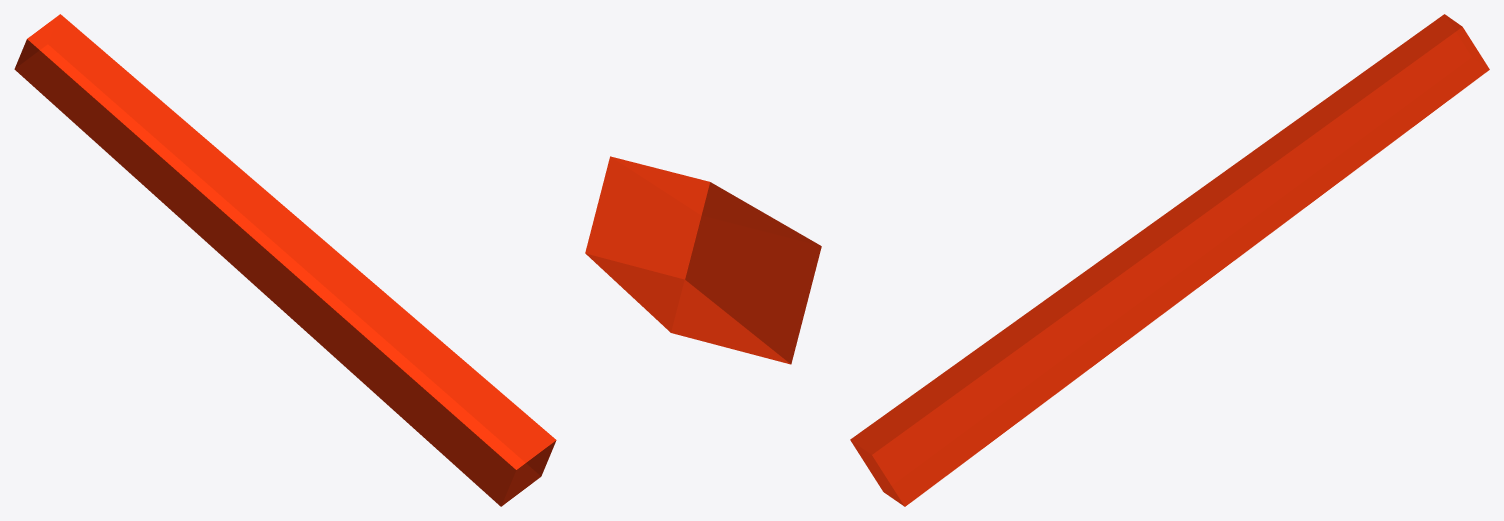
File: Event_421556567_EBrechit_16.fbx
3 views of the same model, side by side, from view 1: azimuth 30°, elevation 25°; view 2: azimuth 150°, elevation 25°; view 3: azimuth 270°, elevation 25° (orthographic). The views are drawn at different scales.
Parts seen in each view (by area): view 1: Model; view 2: Model; view 3: Model.
Boxes of the visible parts, x1,y1,x2,y2 form: Model: [14, 14, 556, 506]; Model: [585, 156, 821, 364]; Model: [850, 14, 1489, 506].
Bounding box in the file's own units: 0.3404 × 0.4158 × 0.6479.
